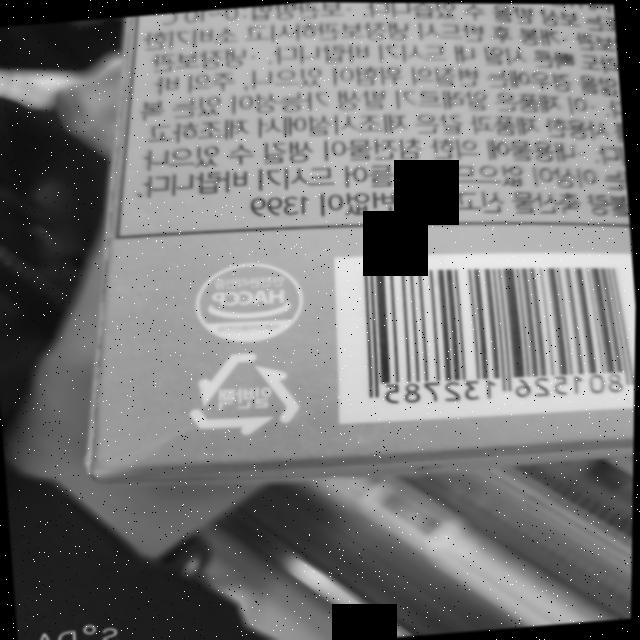NormalPack: (183, 343, 306, 442)
